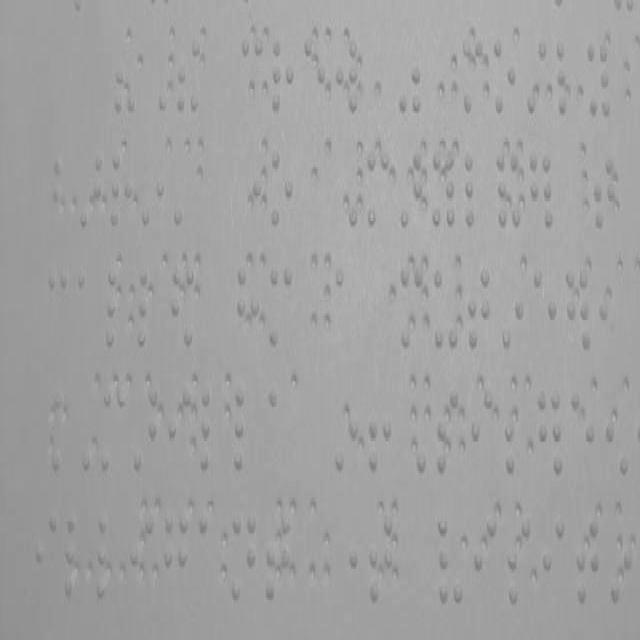braiile: (228, 506, 258, 614), (368, 502, 396, 614), (505, 510, 535, 614), (436, 509, 466, 611), (162, 498, 190, 604), (93, 504, 123, 602), (128, 502, 156, 604), (196, 507, 224, 609), (539, 514, 567, 616), (574, 511, 602, 613), (472, 506, 498, 614), (266, 382, 292, 489), (235, 254, 261, 359), (432, 264, 462, 354), (529, 266, 559, 356), (107, 146, 135, 242), (364, 141, 392, 237), (165, 378, 191, 480), (399, 258, 426, 356), (333, 260, 361, 353), (61, 507, 89, 600), (100, 379, 126, 479), (433, 386, 459, 486), (334, 30, 361, 126), (134, 262, 160, 360), (266, 261, 294, 352), (232, 382, 258, 480), (568, 386, 594, 484), (105, 256, 129, 362), (492, 32, 518, 128), (468, 381, 494, 477), (428, 147, 456, 236), (460, 144, 488, 233), (300, 34, 328, 122), (74, 260, 100, 353), (466, 260, 492, 353), (200, 381, 224, 481), (268, 34, 296, 118), (585, 38, 609, 136), (268, 147, 294, 236), (591, 147, 617, 236), (34, 509, 60, 598), (238, 32, 264, 119), (461, 30, 485, 121), (46, 264, 70, 354), (555, 34, 579, 121)
